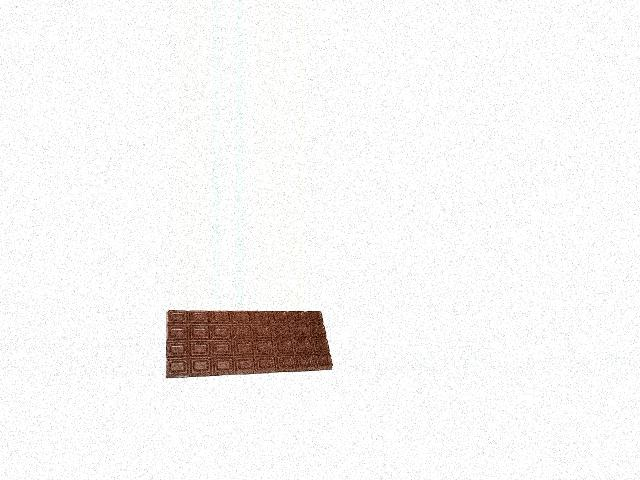chocolate: (164, 310, 334, 376)
